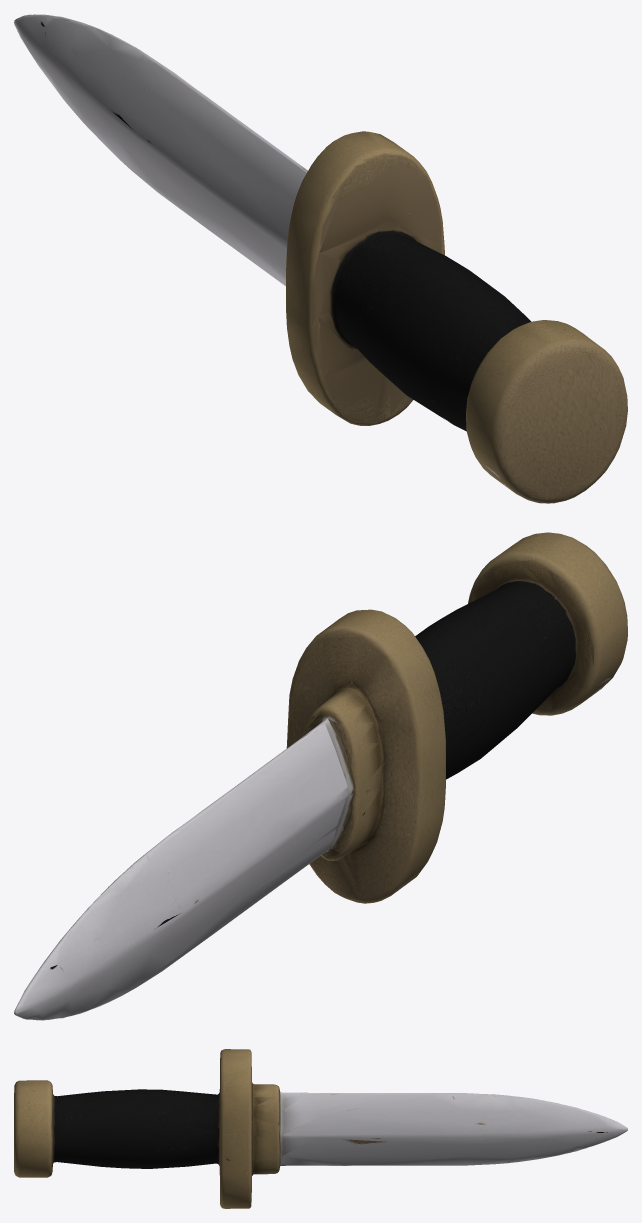
The model's file is NyxDagger.glb.
3 renders of one model, top to bottom at view 1: azimuth 30°, elevation 25°; view 2: azimuth 150°, elevation 25°; view 3: azimuth 270°, elevation 25°, orthographic. The views are drawn at different scales.
Parts seen in each view (by area): view 1: NyxDagger; view 2: NyxDagger; view 3: NyxDagger.
Boxes of the visible parts, x1,y1,x2,y2 form: NyxDagger: (14, 14, 627, 503); NyxDagger: (14, 532, 627, 1020); NyxDagger: (14, 1049, 627, 1208).
Bounding box in the file's own units: 0.2152 × 0.4143 × 1.5.
Materials: 1 (1 with a texture image).
